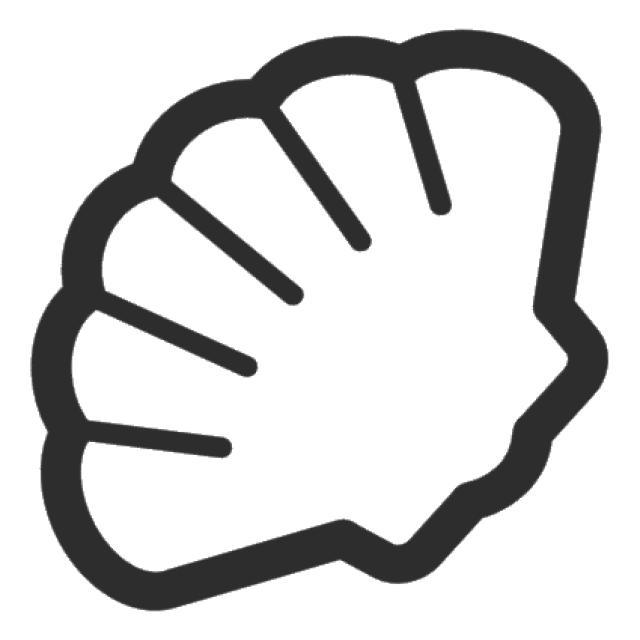shell: (16, 21, 626, 628)
